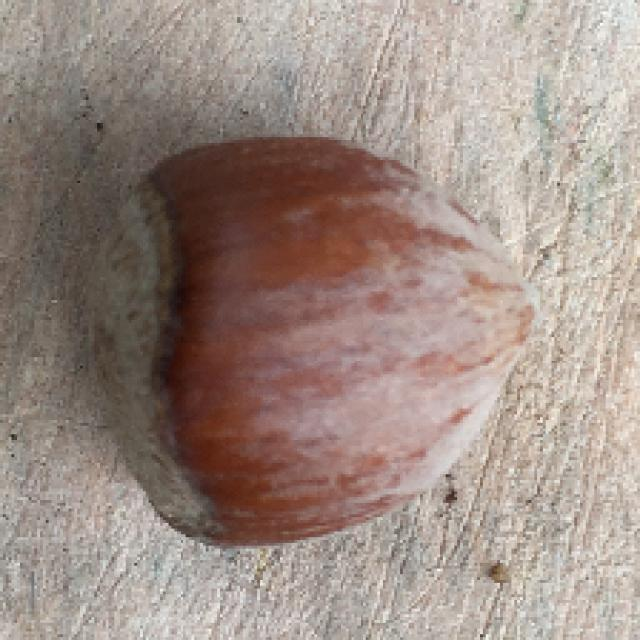qualityHazelnut: (75, 143, 547, 547)
